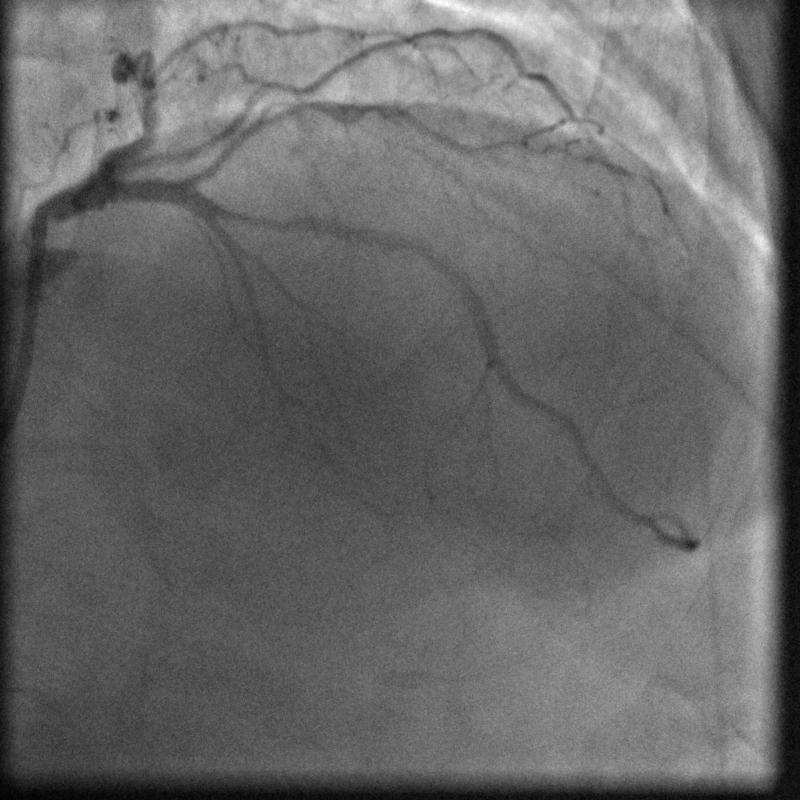Stenosis: (232, 196, 294, 242)
